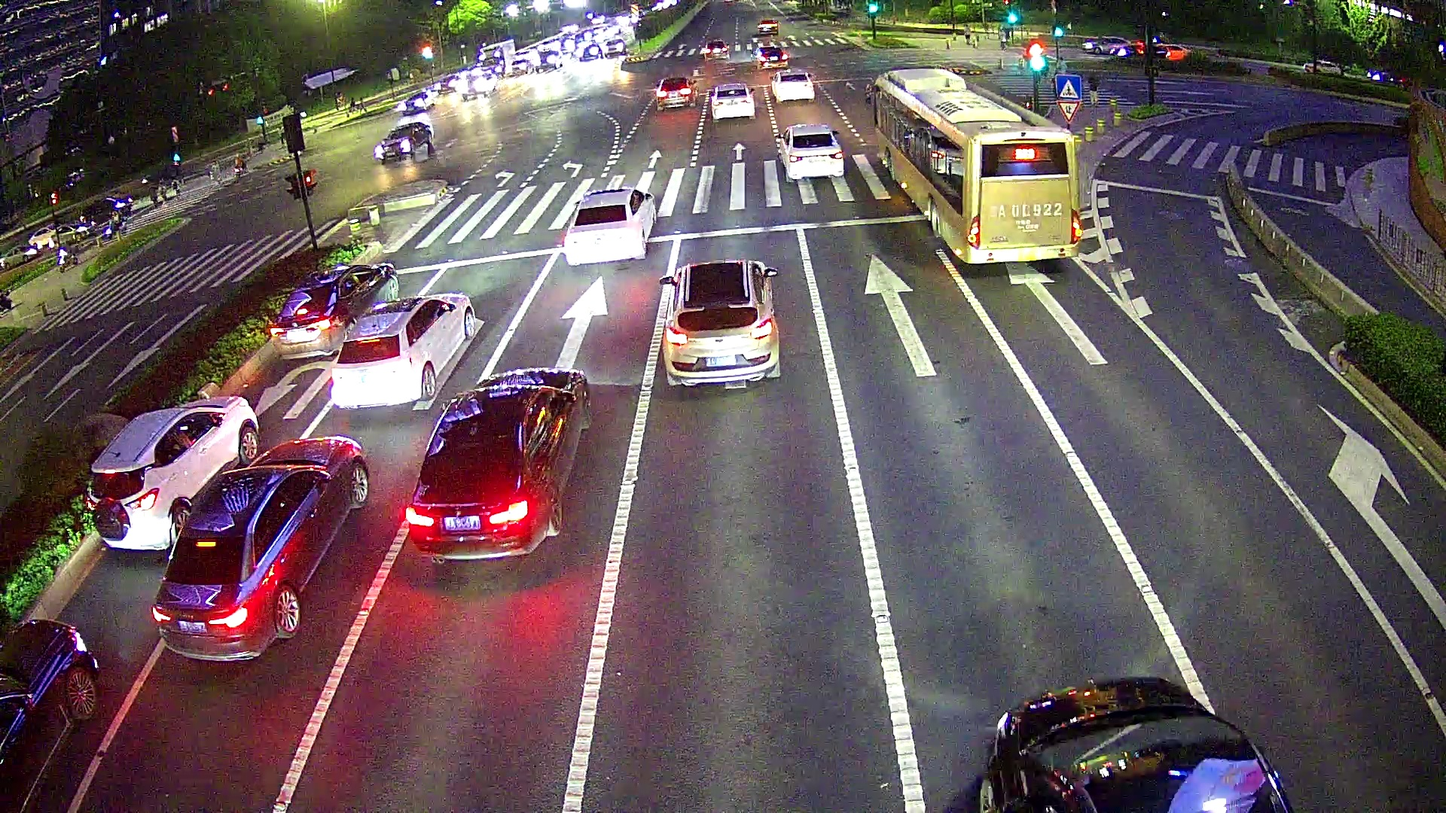vehicle: (147, 432, 371, 666), (862, 61, 1084, 266), (400, 364, 595, 565), (84, 393, 258, 555), (329, 291, 475, 412), (653, 257, 786, 389), (268, 259, 399, 358), (560, 184, 657, 266), (772, 118, 847, 183), (371, 120, 431, 165), (706, 78, 758, 123), (768, 65, 818, 105), (654, 73, 696, 109)
